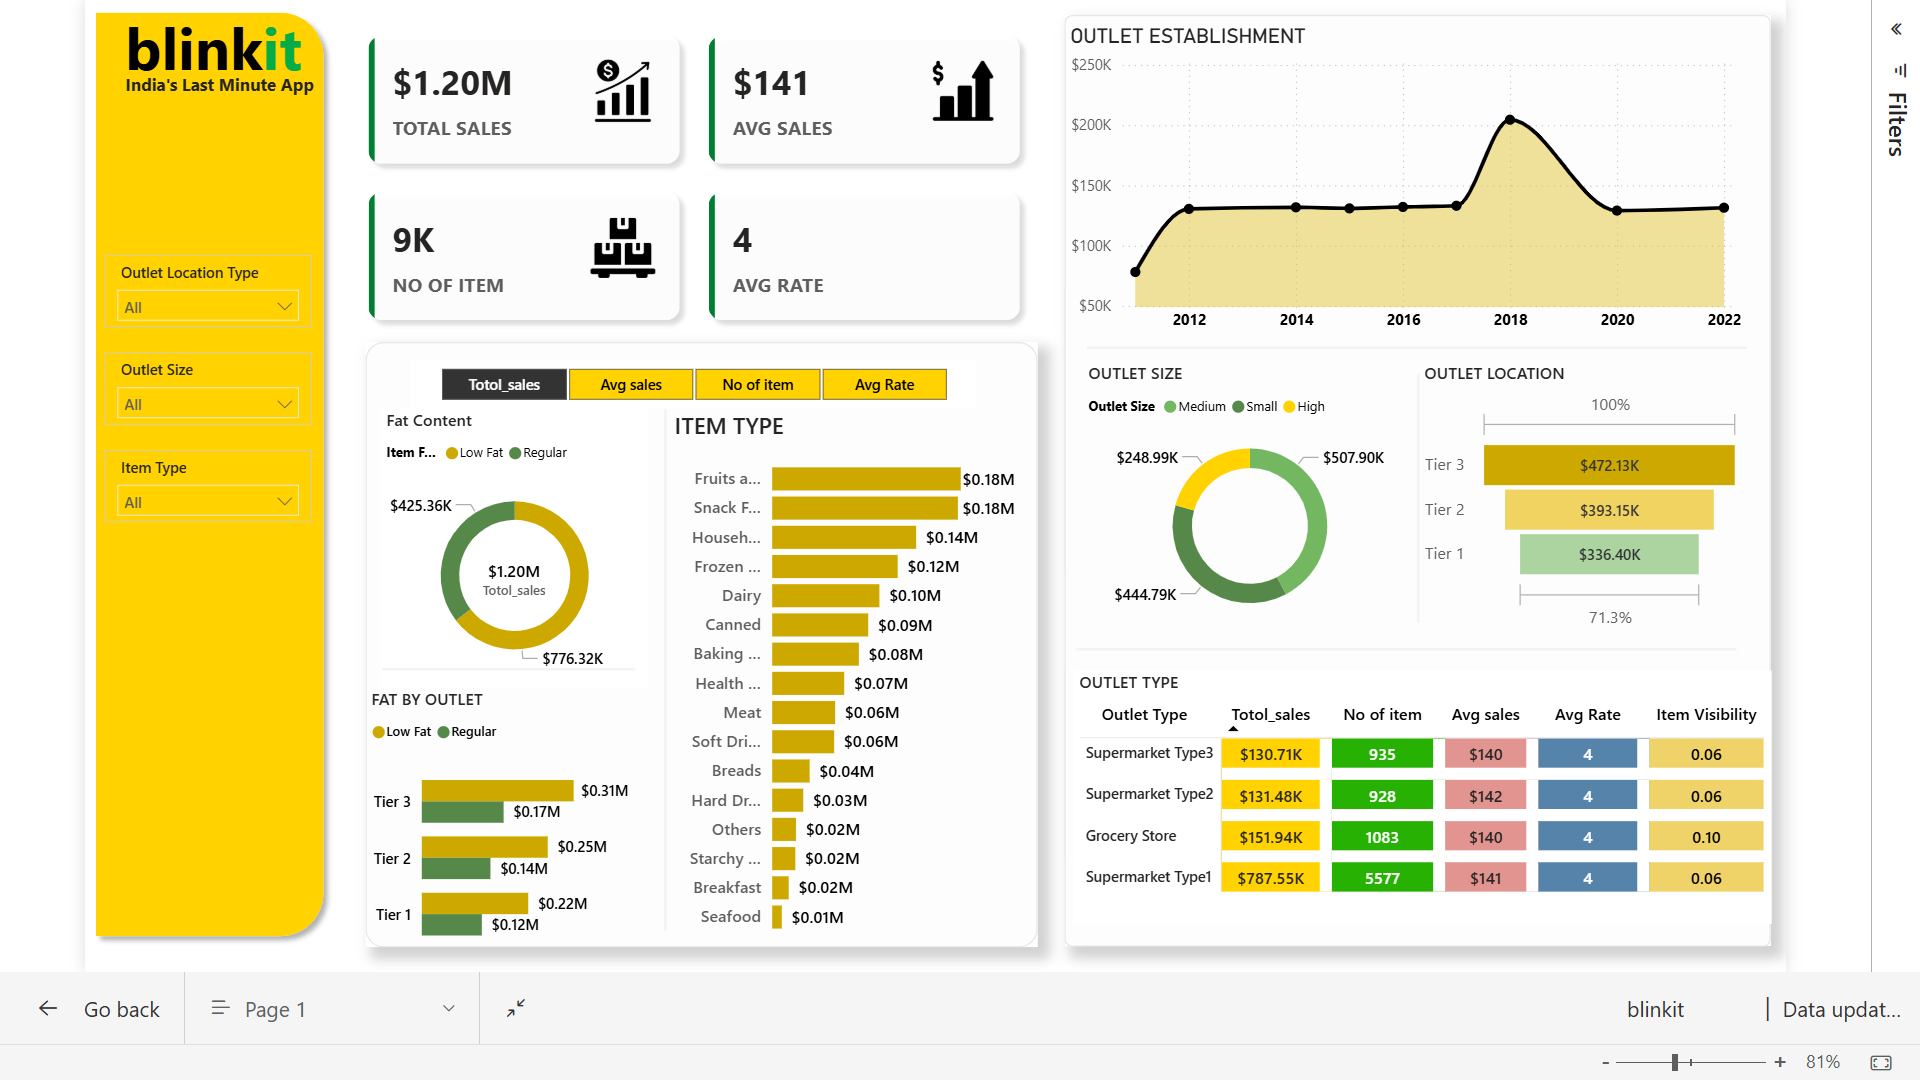

This screenshot's page, from the dashboard's own definition file:
{"tool":"powerbi","page":{"name":"Page 1","canvas":[1400,800],"ordinal":0},"visuals":[{"type":"shape","box":[0,1.7,205.4,778.4],"z":0},{"type":"textbox","box":[27.8,0,170.4,107.8],"z":1000},{"type":"textbox","box":[27.8,53.9,488.7,113],"z":2000},{"type":"cardVisual","fields":{"Data":["BlinkIT Grocery Data.Totol_sales","BlinkIT Grocery Data.Avg sales","BlinkIT Grocery Data.No of item","BlinkIT Grocery Data.Avg Rate"]},"box":[215.7,12.2,570.4,269.6],"z":3000},{"type":"shape","box":[231.5,280.9,553.1,498.3],"z":4000},{"type":"donutChart","title":"Fat Content","fields":{"Y":["BlinkIT Grocery Data.Totol_sales"],"Category":["BlinkIT Grocery Data.Item Fat Content"]},"box":[243.5,336.2,220.3,230.2],"z":5000},{"type":"slicer","fields":{"Values":["Matrics.Matrics"]},"box":[268.3,296.5,465.4,39.7],"z":6000},{"type":"cardVisual","fields":{"Data":["BlinkIT Grocery Data.Totol_sales"]},"box":[306.4,435.6,94.4,81.2],"z":7000},{"type":"clusteredBarChart","title":"FAT BY OUTLET","fields":{"Y":["BlinkIT Grocery Data.Totol_sales"],"Category":["BlinkIT Grocery Data.Outlet Location Type"],"Series":["BlinkIT Grocery Data.Item Fat Content"]},"box":[231.5,565.4,220.9,229.7],"z":8000},{"type":"shape","box":[243.8,517.7,208.5,67.1],"z":9000},{"type":"shape","box":[436.4,337.5,81.3,429.4],"z":10000},{"type":"barChart","title":"ITEM TYPE","fields":{"Y":["BlinkIT Grocery Data.Totol_sales"],"Category":["BlinkIT Grocery Data.Item Type"]},"box":[480.6,337.5,289.8,441.7],"z":11000},{"type":"shape","box":[805.7,12.4,581.3,766.9],"z":12000},{"type":"lineChart","title":"OUTLET ESTABLISHMENT","fields":{"Y":["BlinkIT Grocery Data.Totol_sales"],"Category":["BlinkIT Grocery Data.Outlet Establishment Year"]},"box":[806.6,19.3,561.4,261.7],"z":13000},{"type":"donutChart","title":"OUTLET SIZE","fields":{"Y":["BlinkIT Grocery Data.Totol_sales"],"Category":["BlinkIT Grocery Data.Outlet Size"]},"box":[821.5,297.7,274.9,225.2],"z":13001},{"type":"shape","box":[824.8,252.8,543.2,66.2],"z":13002},{"type":"shape","box":[1056.6,307.6,81.2,205.4],"z":13003},{"type":"funnel","title":"OUTLET LOCATION","fields":{"Y":["BlinkIT Grocery Data.Totol_sales"],"Category":["BlinkIT Grocery Data.Outlet Location Type"]},"box":[1098,297.7,270,225.2],"z":13004},{"type":"shape","box":[816.5,501.8,543.2,66.2],"z":13005},{"type":"pivotTable","title":"OUTLET TYPE","fields":{"Rows":["BlinkIT Grocery Data.Outlet Type"],"Values":["BlinkIT Grocery Data.Totol_sales","BlinkIT Grocery Data.No of item","BlinkIT Grocery Data.Avg sales","BlinkIT Grocery Data.Avg Rate","Avg(BlinkIT Grocery Data.Item Visibility)"]},"box":[813.2,551.5,574.7,208.7],"z":13006},{"type":"slicer","fields":{"Values":["BlinkIT Grocery Data.Outlet Location Type"]},"box":[16.6,210.3,170.6,59.6],"z":13007},{"type":"slicer","fields":{"Values":["BlinkIT Grocery Data.Outlet Size"]},"box":[16.6,289.8,170.6,59.6],"z":13008},{"type":"slicer","fields":{"Values":["BlinkIT Grocery Data.Item Type"]},"box":[16.6,371,170.6,59.6],"z":13009}]}

Visuals, with their boxes on the page's 1400x800 design canvas (x1, y1, x2, y2). These are canvas units, not pixel positions in the 1920x1080 screenshot, which may show the page scaled, cropped or inside an application window:
shape: [0,2,205,780]
textbox: [28,0,198,108]
textbox: [28,54,516,167]
cardVisual - BlinkIT Grocery Data.Totol_sales x BlinkIT Grocery Data.Avg sales: [216,12,786,282]
shape: [232,281,785,779]
"Fat Content" donutChart: [244,336,464,566]
slicer - Matrics.Matrics: [268,296,734,336]
cardVisual - BlinkIT Grocery Data.Totol_sales: [306,436,401,517]
"FAT BY OUTLET" clusteredBarChart: [232,565,452,795]
shape: [244,518,452,585]
shape: [436,338,518,767]
"ITEM TYPE" barChart: [481,338,770,779]
shape: [806,12,1387,779]
"OUTLET ESTABLISHMENT" lineChart: [807,19,1368,281]
"OUTLET SIZE" donutChart: [822,298,1096,523]
shape: [825,253,1368,319]
shape: [1057,308,1138,513]
"OUTLET LOCATION" funnel: [1098,298,1368,523]
shape: [816,502,1360,568]
"OUTLET TYPE" pivotTable: [813,552,1388,760]
slicer - BlinkIT Grocery Data.Outlet Location Type: [17,210,187,270]
slicer - BlinkIT Grocery Data.Outlet Size: [17,290,187,349]
slicer - BlinkIT Grocery Data.Item Type: [17,371,187,431]
